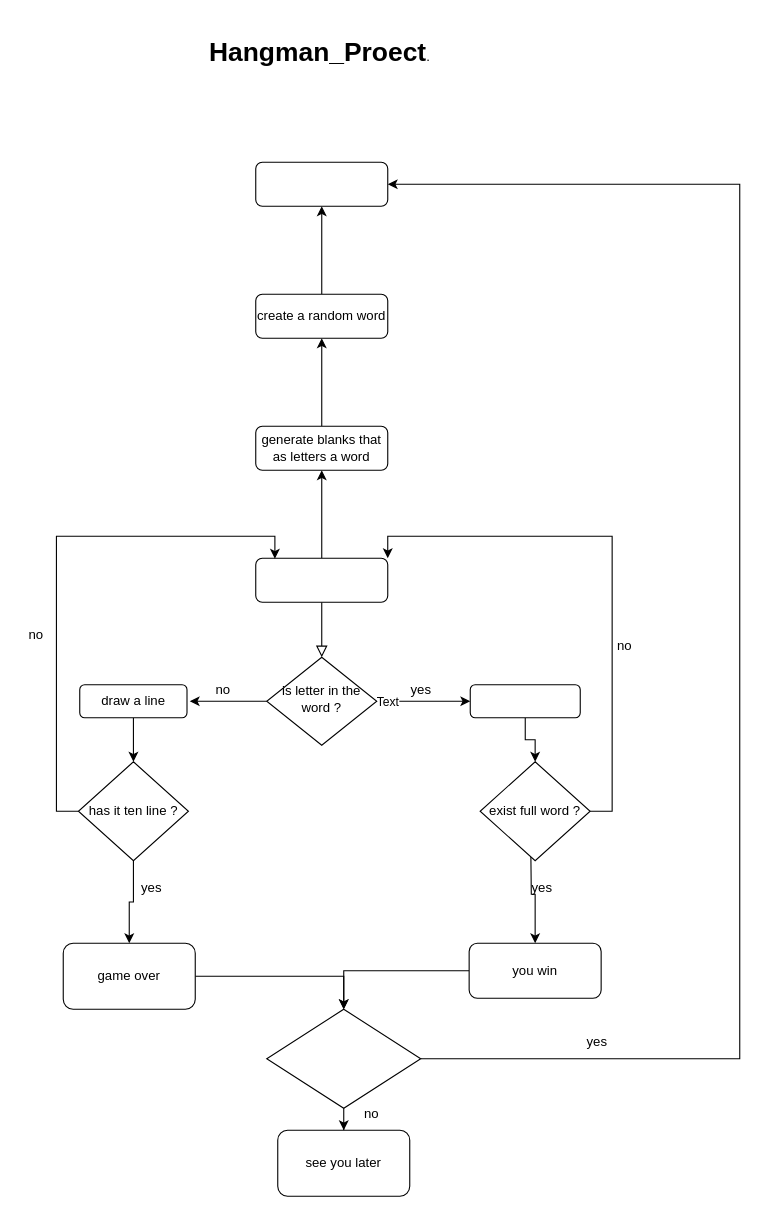
Image size: 768x1216. Some labels were removed from this diagram. The shapes that lost their labels are listed below. From the top down, each one's centre as x and y in pixels, then its label:
At (321,183): "start".
At (321,579): "Ask user to guess a letter".
At (524,701): "show a letter in word".
At (343,1058): "Would you like play again?".
